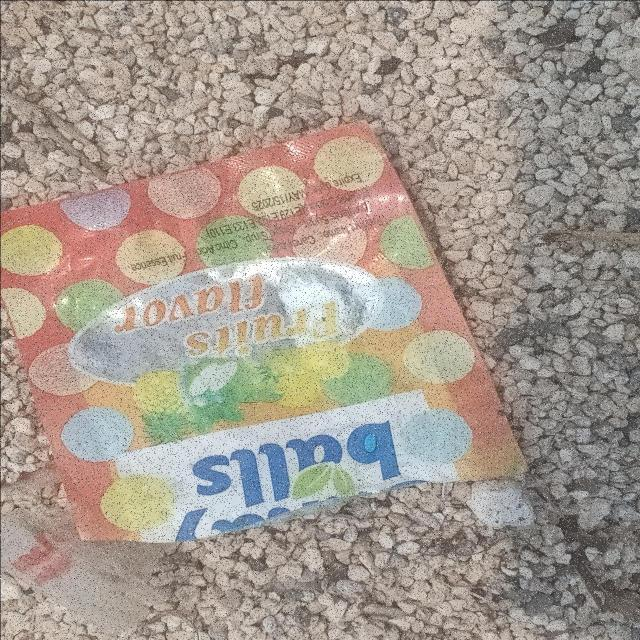plastic_waste: (1, 121, 531, 543)
